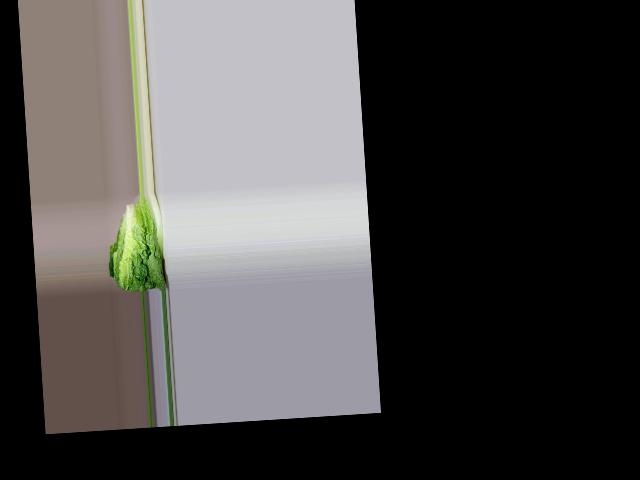lettuce: (111, 197, 169, 294)
